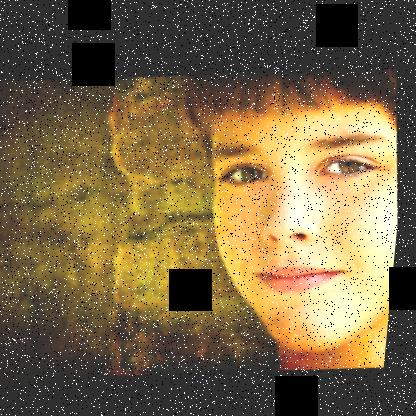Male: (195, 78, 411, 358)
